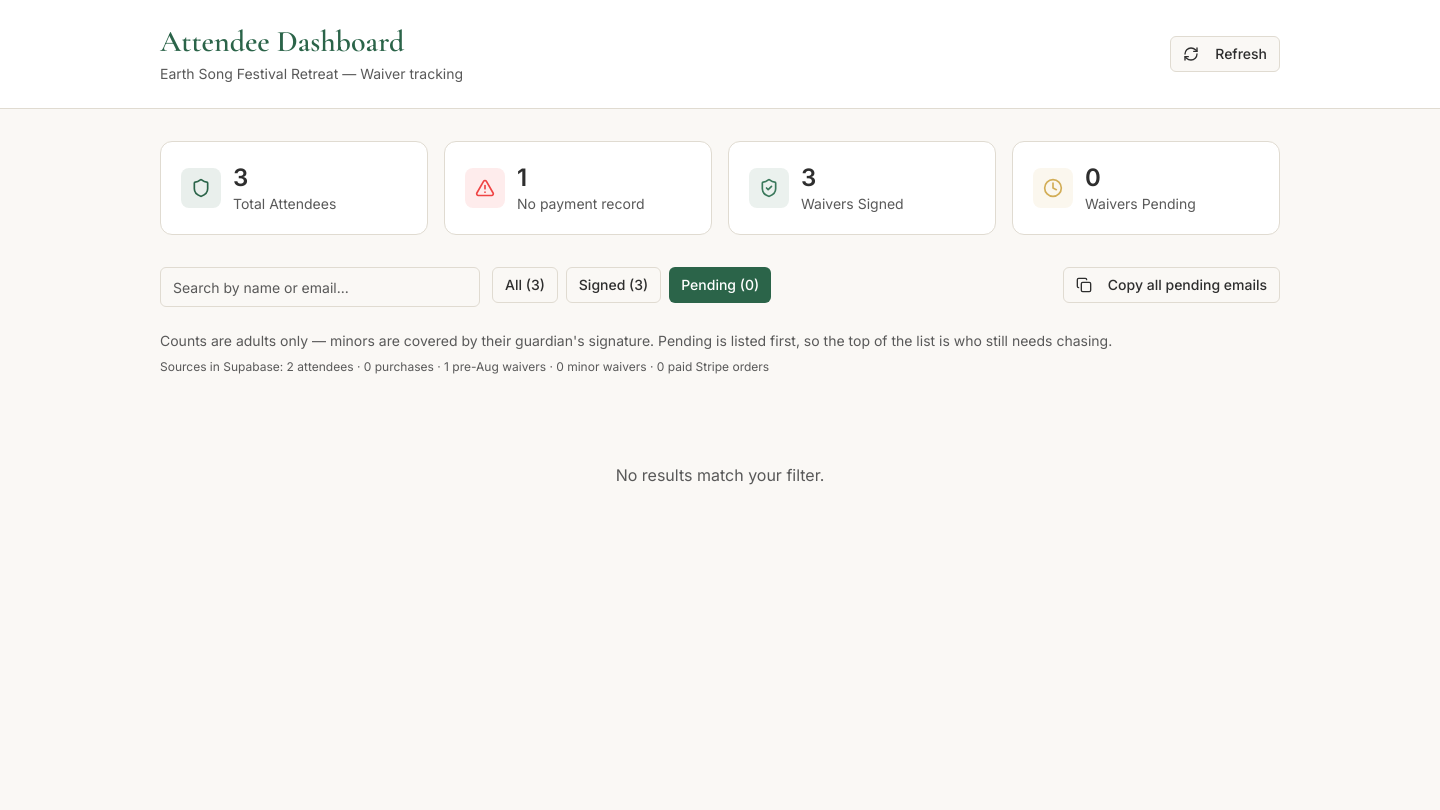
waiver status pills › distinguishes paper, Smartwaiver and pre-August signatures
Step 1. Click the button "all (3)" → (525, 285), box [492, 267, 558, 303]
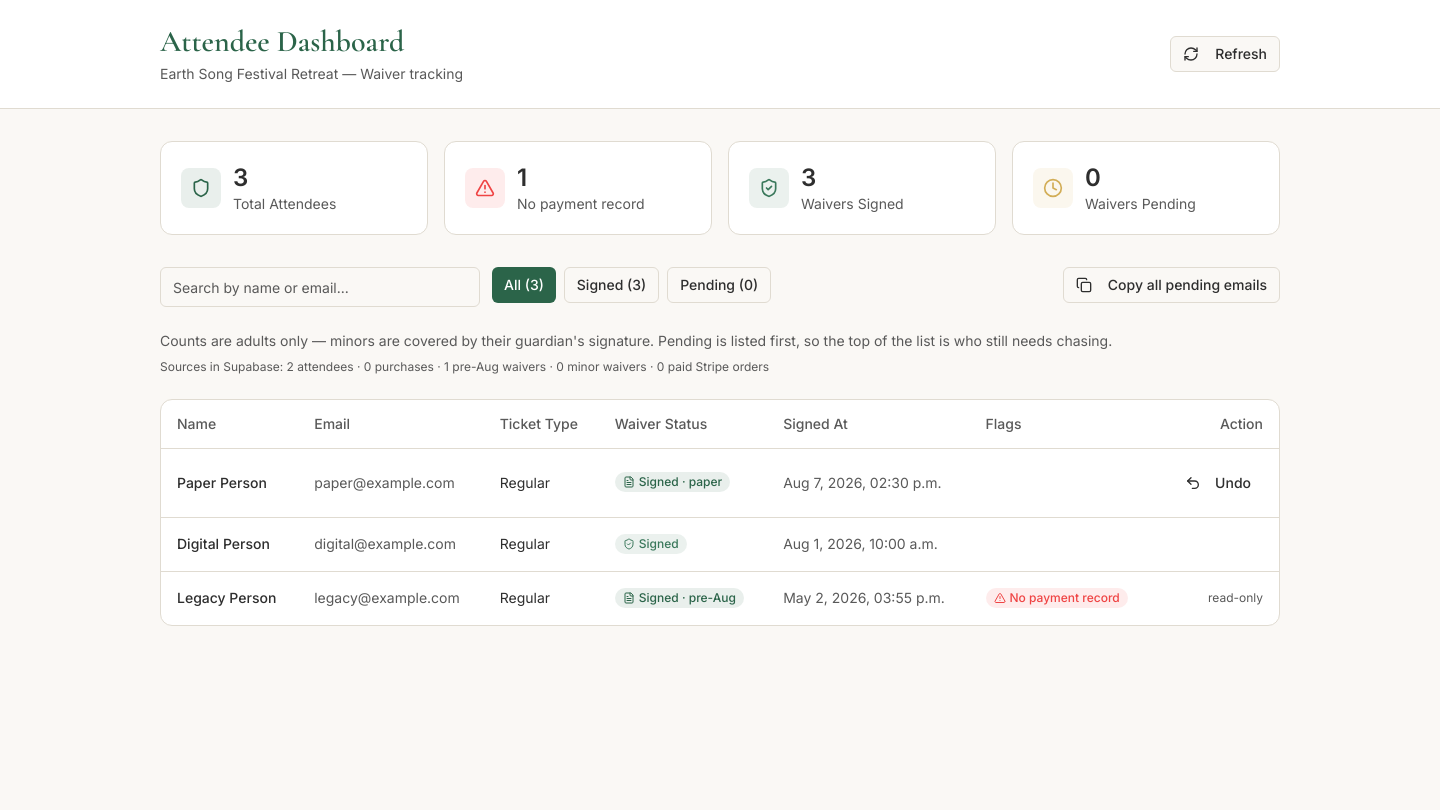
Now the text "Signed · paper" is shown, box [615, 472, 730, 492]
Now the text "Signed" is shown, box [615, 534, 687, 554]
Now the text "Signed · pre-Aug" is shown, box [615, 588, 744, 608]
